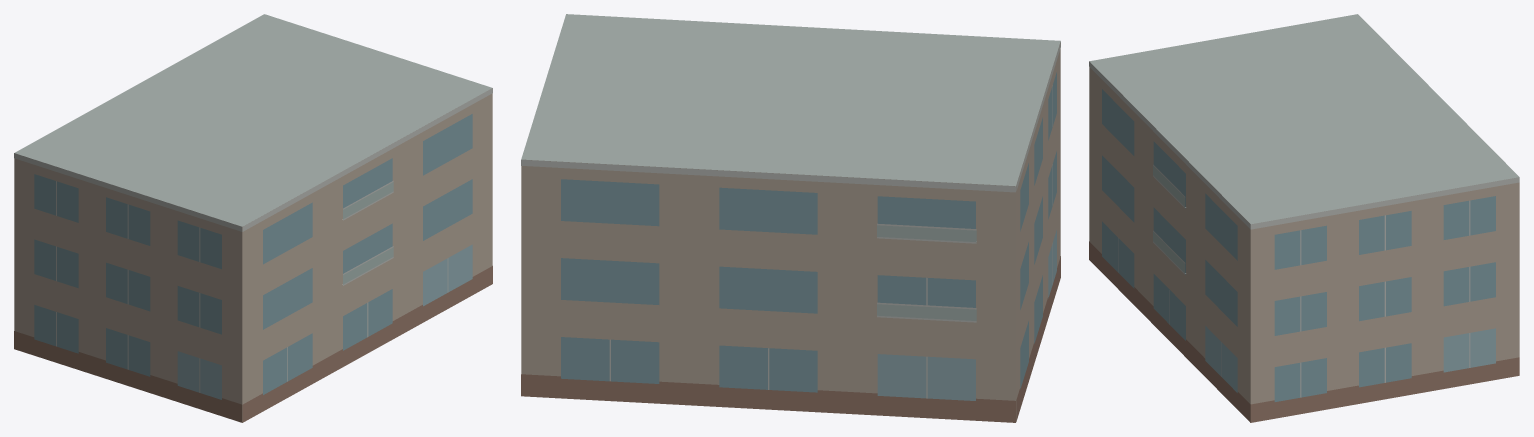
File: survey-upis-32969009.glb
3 views of the same model, side by side, from view 1: azimuth 30°, elevation 25°; view 2: azimuth 150°, elevation 25°; view 3: azimuth 270°, elevation 25° (orthographic). The views are drawn at different scales.
Visible parts, largest first — view 1: survey-upis-32969009.tmp; view 2: survey-upis-32969009.tmp; view 3: survey-upis-32969009.tmp.
Boxes of the visible parts, x1,y1,x2,y2 form: survey-upis-32969009.tmp: (14,14,492,422); survey-upis-32969009.tmp: (521,14,1060,422); survey-upis-32969009.tmp: (1089,14,1519,422).
Bounding box in the file's own units: 20.8 × 9.15 × 17.99.
